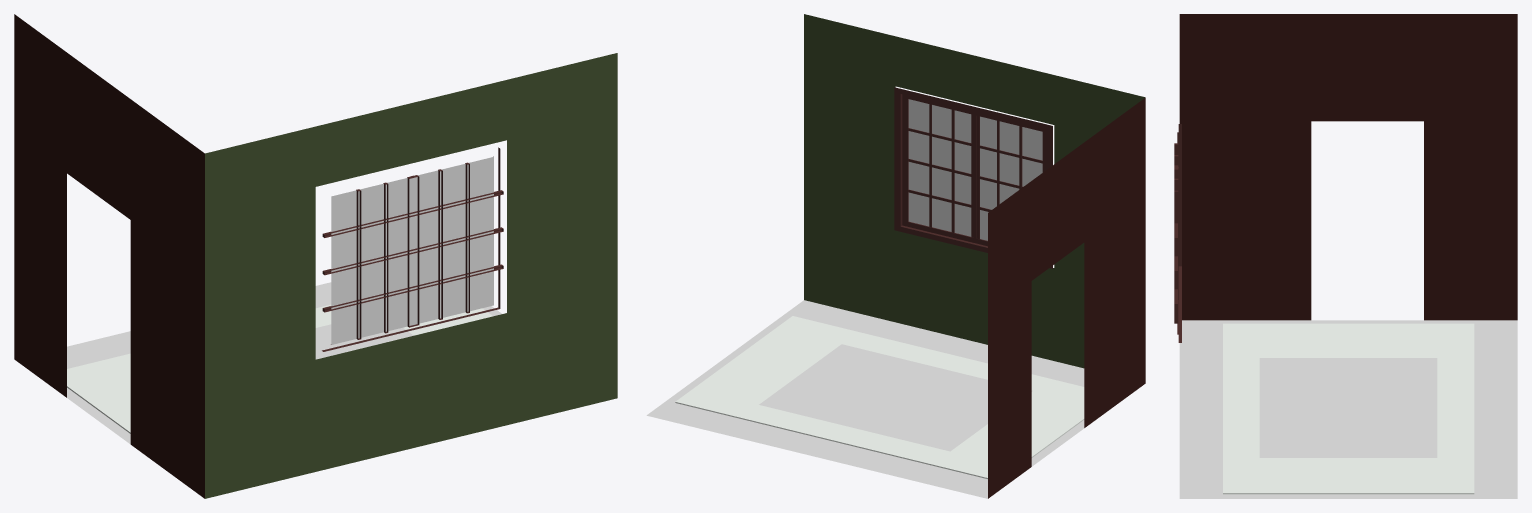
The model's file is LudJam.fbx.
The picture shows the model from 3 angles, left to right: view 1: azimuth 30°, elevation 25°; view 2: azimuth 150°, elevation 25°; view 3: azimuth 270°, elevation 25°; orthographic projection. The views are drawn at different scales.
Visible parts, largest first — view 1: Cube, Plane, Cube.001, Cube.002, Plane.001; view 2: Cube, Plane, Plane.001, Cube.001, Cube.002; view 3: Cube, Plane, Plane.001, Cube.001.
Part boxes in pixels (bbox=[...]): Cube: bbox=[14, 14, 617, 498]; Plane: bbox=[67, 304, 492, 433]; Cube.001: bbox=[356, 162, 469, 339]; Cube.002: bbox=[322, 190, 503, 312]; Plane.001: bbox=[315, 324, 413, 359]; Cube: bbox=[646, 14, 1145, 498]; Plane: bbox=[675, 316, 1084, 478]; Plane.001: bbox=[759, 344, 1032, 451]; Cube.001: bbox=[929, 104, 1022, 239]; Cube.002: bbox=[908, 128, 1042, 211]; Cube: bbox=[1177, 14, 1517, 498]; Plane: bbox=[1223, 323, 1474, 494]; Plane.001: bbox=[1259, 358, 1437, 457]; Cube.001: bbox=[1174, 143, 1178, 323].
Size of the model in its own units: 5000 by 4010 by 4061.
